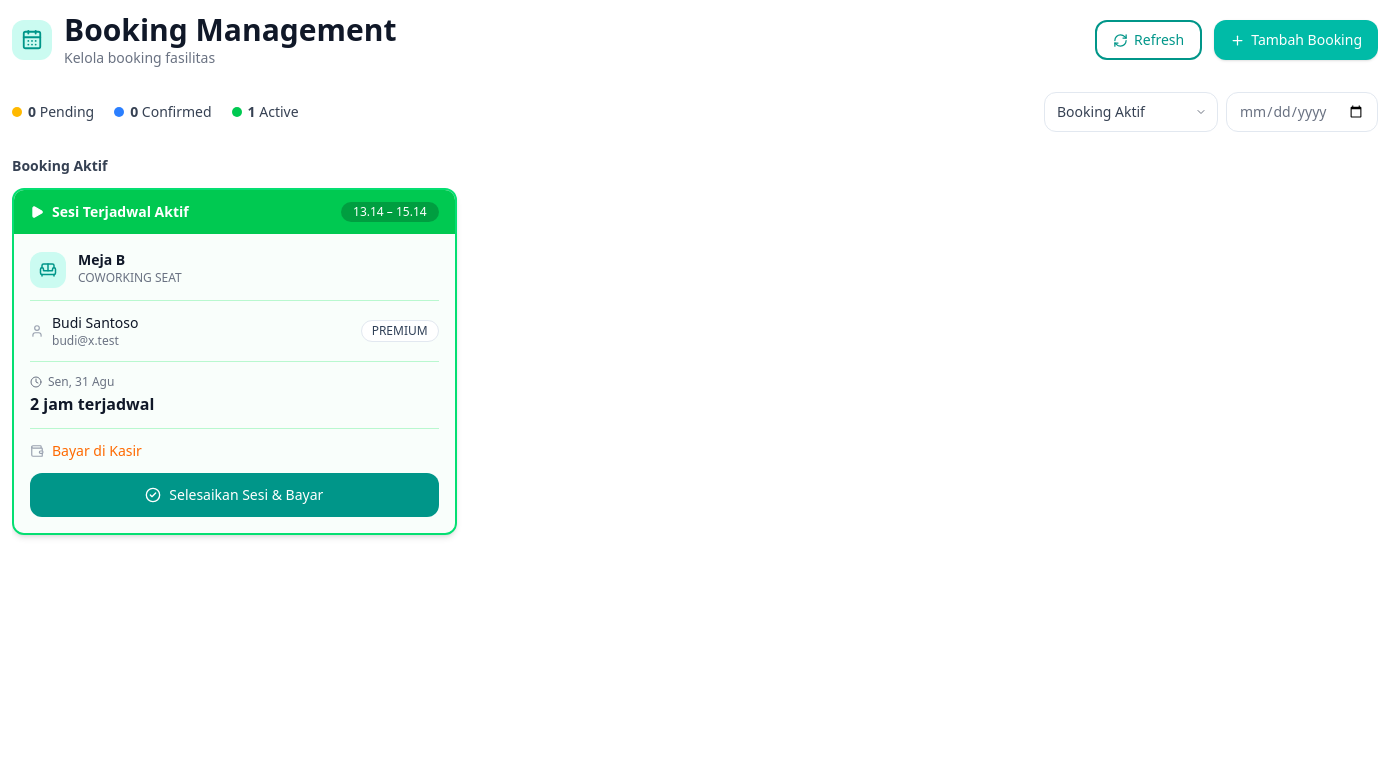
it: BookingsClient (AC-841) › [SEC] does not offer Time Credits at checkout for an already-prepaid (PAID_ONLINE) ACTIVE booking
Click the button "Selesaikan Sesi & Bayar": point(234, 495) [30,473,439,517]
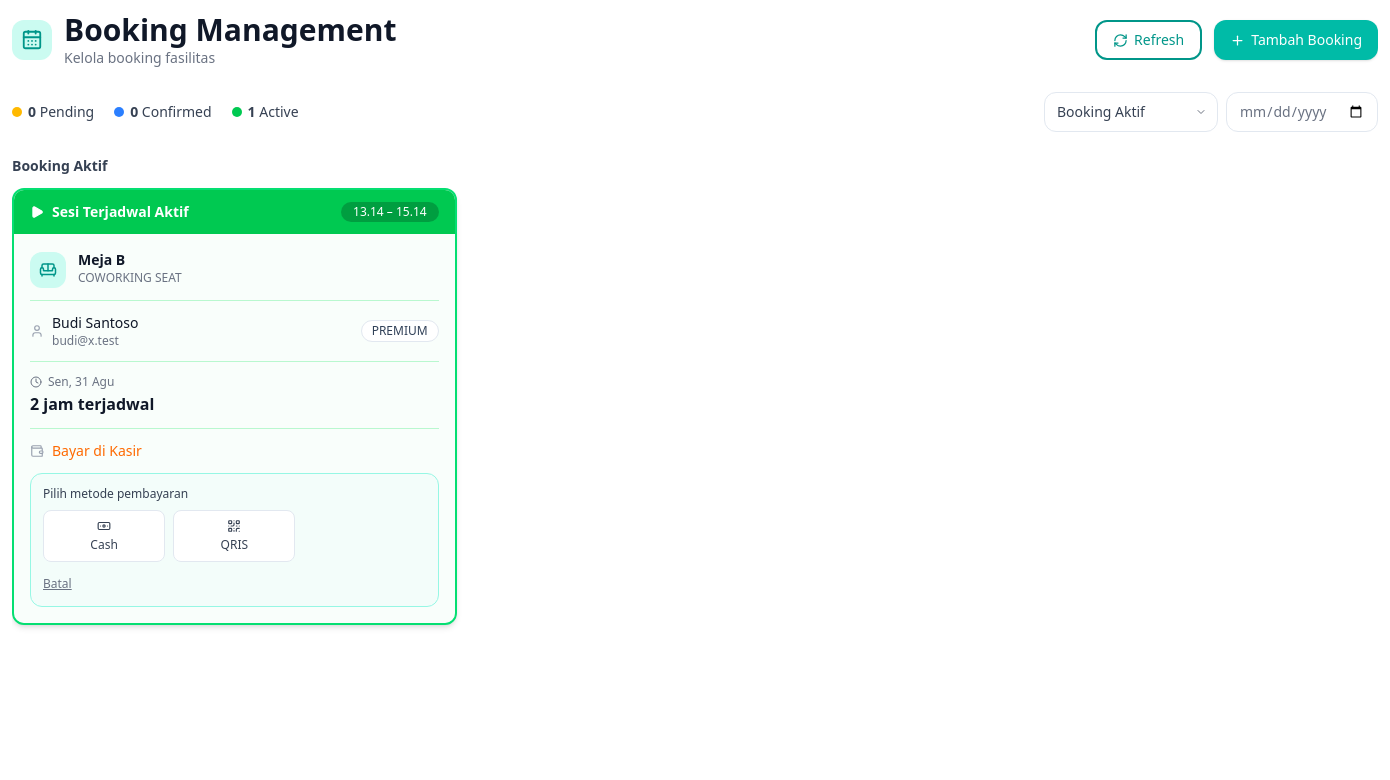
Expected: the button "Cash" is shown, [43,510,165,562]
Expected: the button "QRIS" is shown, [173,510,295,562]
